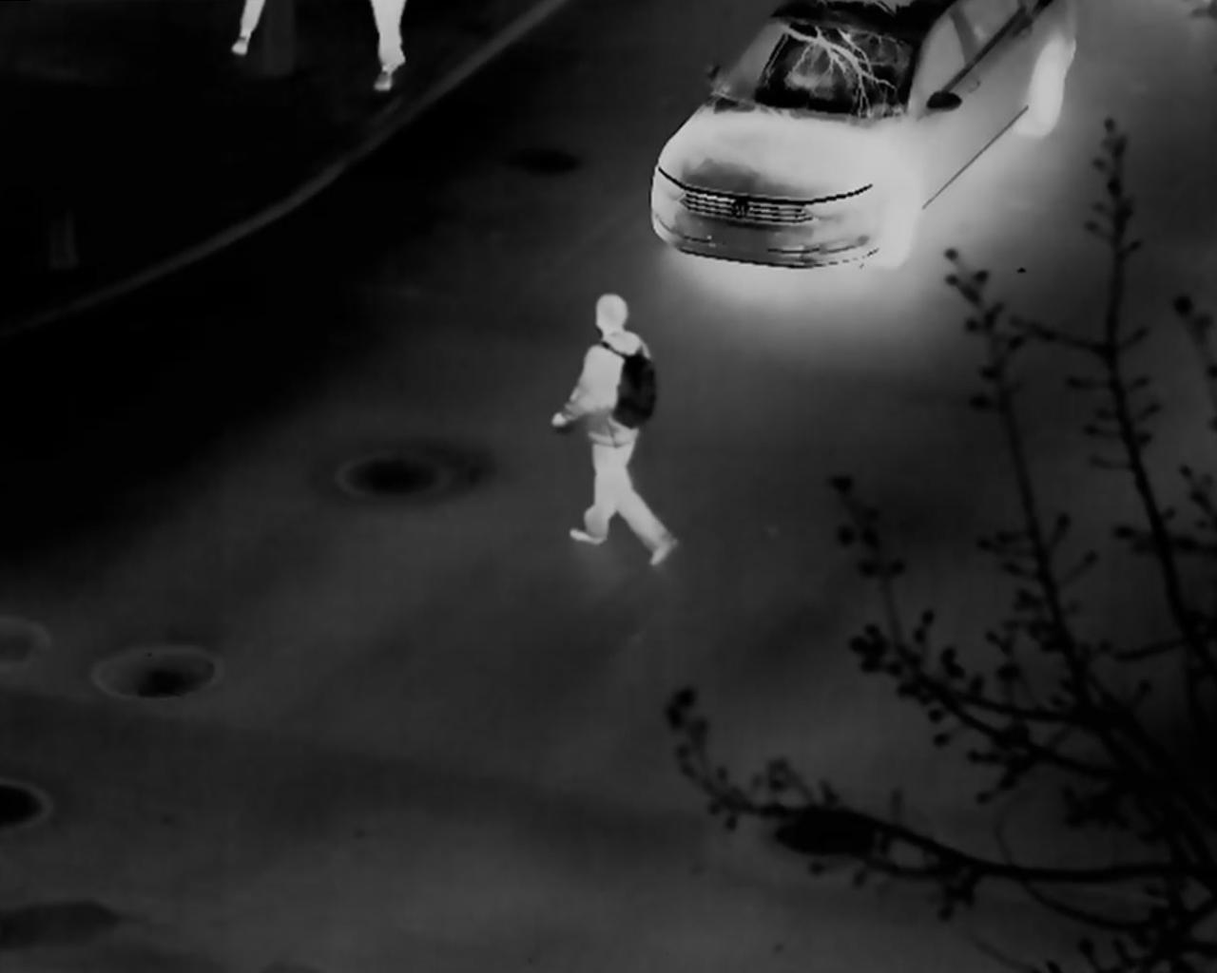person: (550, 292, 682, 571)
